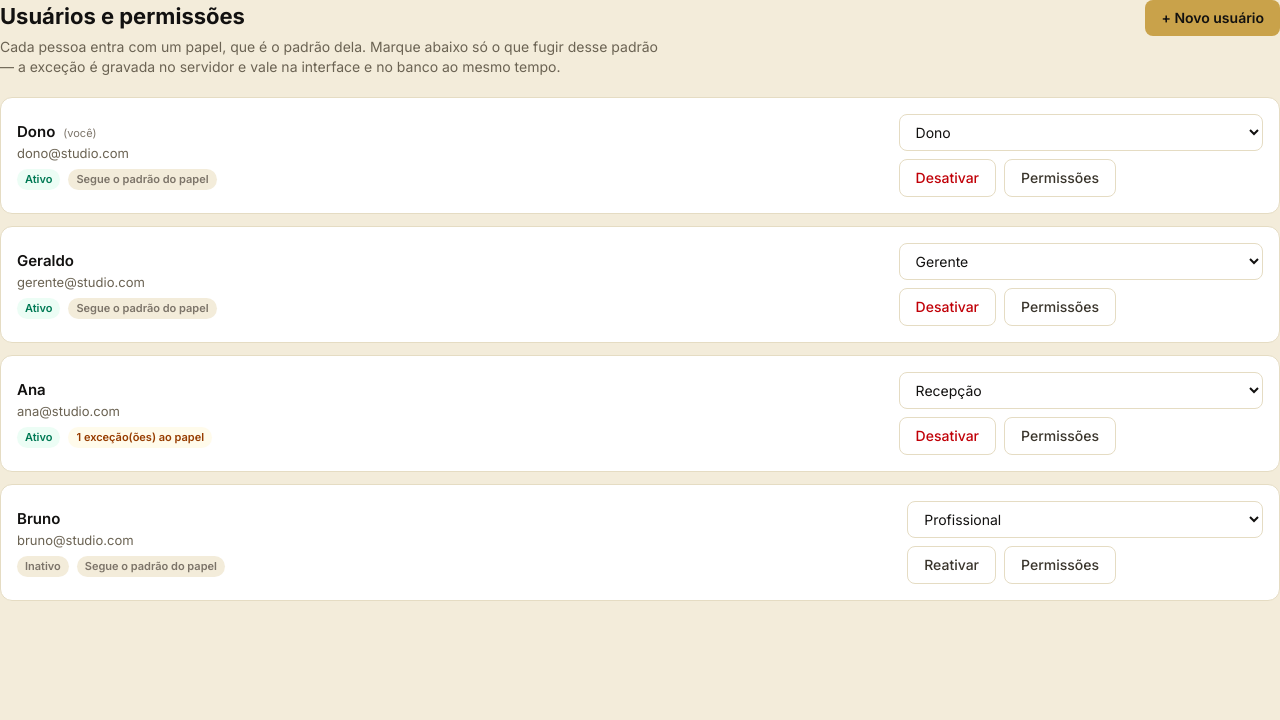
it: dono é invariável na tela › aparece com tudo marcado e travado, sem exceção possível
The width and height of the screenshot is (1280, 720).
Click the button named "Permissões de Dono" at (1060,178), box left=1004, top=159, right=1116, bottom=197
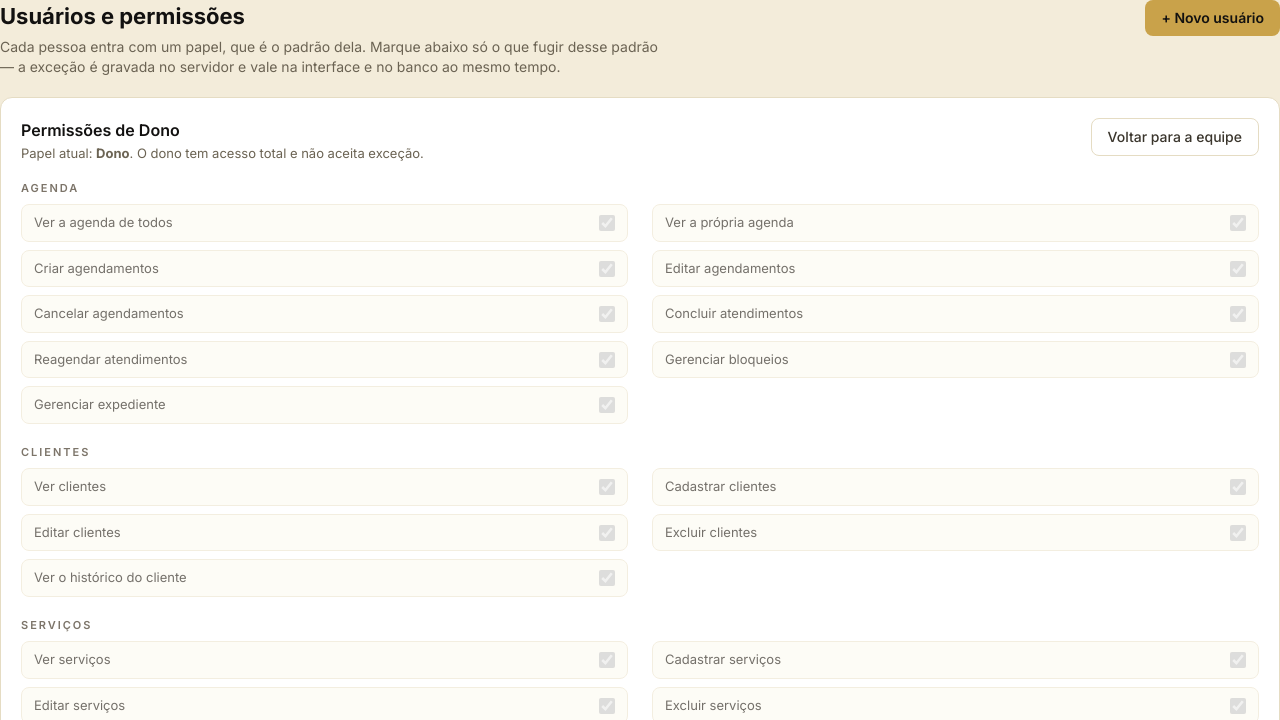
Result: the text "O dono tem acesso total e não aceita exceção" is shown at left=133, top=145, right=424, bottom=161
Click the button "Voltar para a equipe" at (1175,137), box left=1090, top=118, right=1259, bottom=156
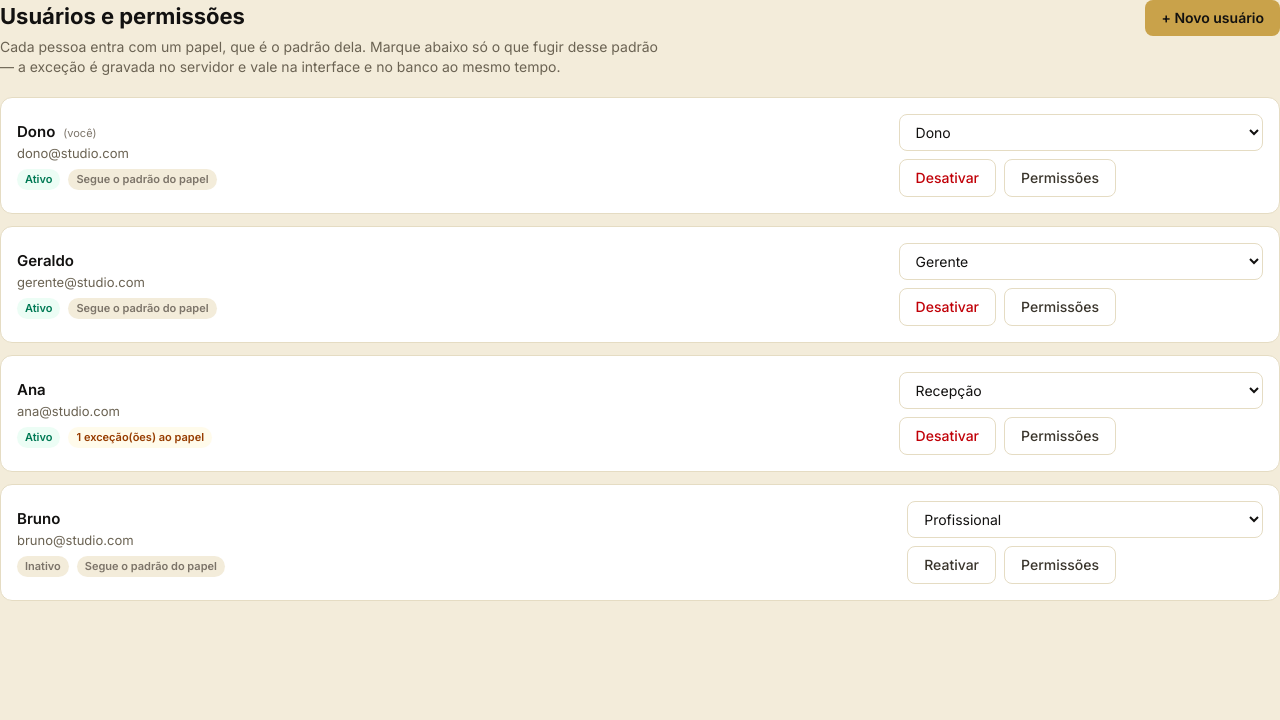
Result: the button named "Permissões de Ana" is shown at left=1004, top=417, right=1116, bottom=455
